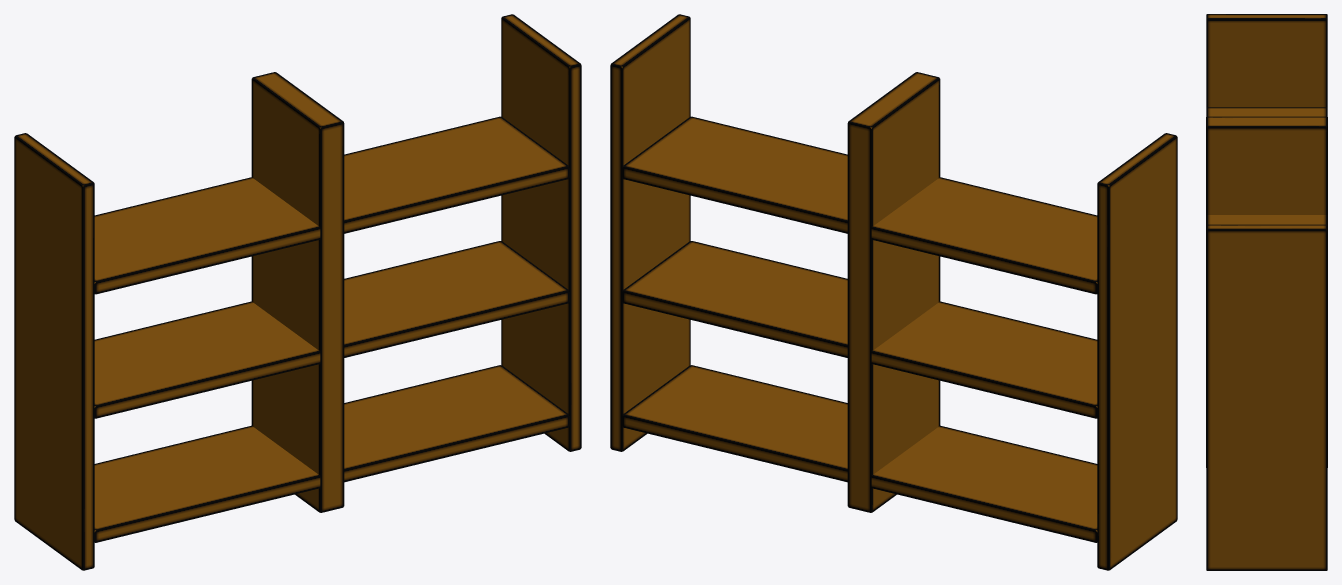
The model's file is rack.obj.
The picture shows the model from 3 angles, left to right: view 1: azimuth 30°, elevation 25°; view 2: azimuth 150°, elevation 25°; view 3: azimuth 270°, elevation 25°; orthographic projection. The views are drawn at different scales.
Parts seen in each view (by area): view 1: cube; view 2: cube; view 3: cube.
Boxes of the visible parts, x1,y1,x2,y2 form: cube: (14, 14, 581, 570); cube: (610, 14, 1177, 570); cube: (1206, 14, 1327, 570).
Bounding box in the file's own units: 2.62 × 1.94 × 0.6263.
1 material, 1 textured.
